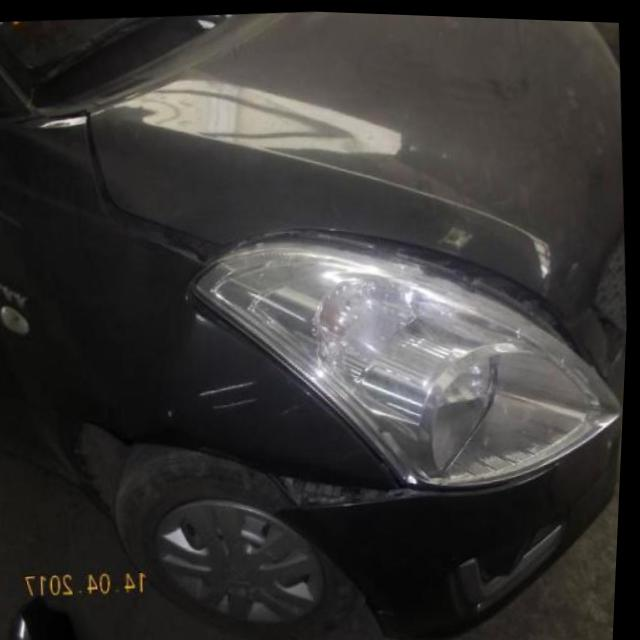Car-Damage: (274, 453, 407, 519), (196, 375, 263, 414)
